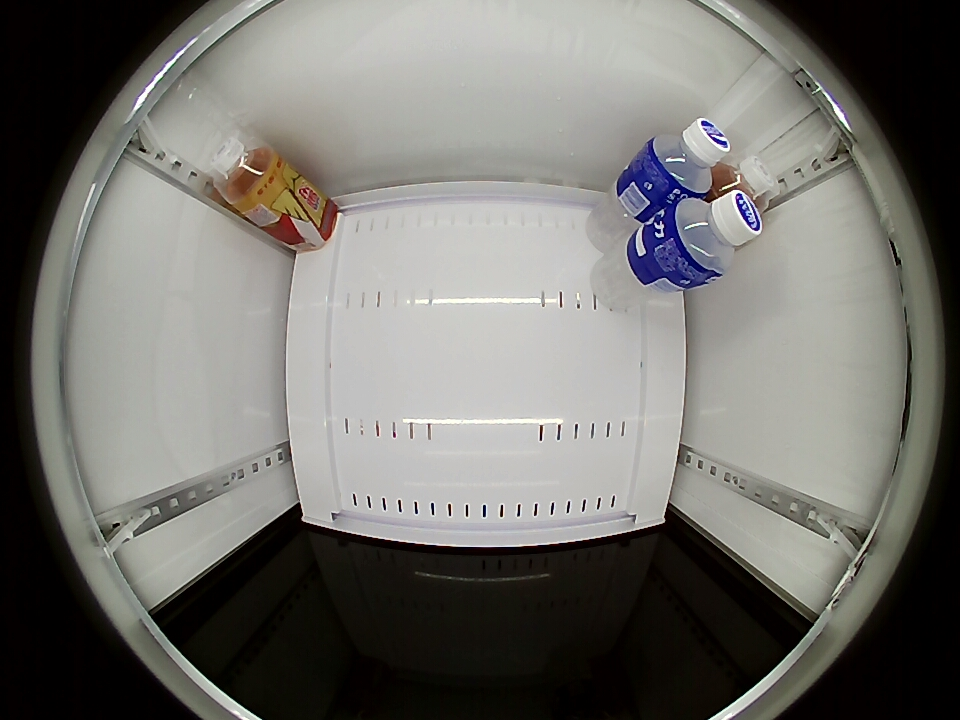baokuangli: (661, 189, 762, 283), (643, 118, 729, 200)
dongpeng-b: (203, 134, 284, 213), (713, 153, 780, 210)
